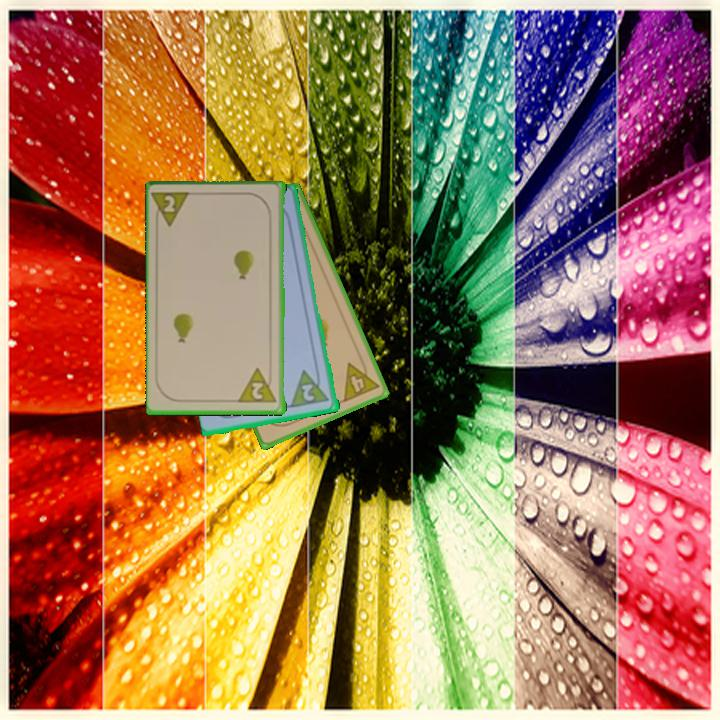2p: (151, 189, 195, 230), (237, 365, 280, 406), (298, 381, 318, 404)
4p: (340, 354, 382, 405)
